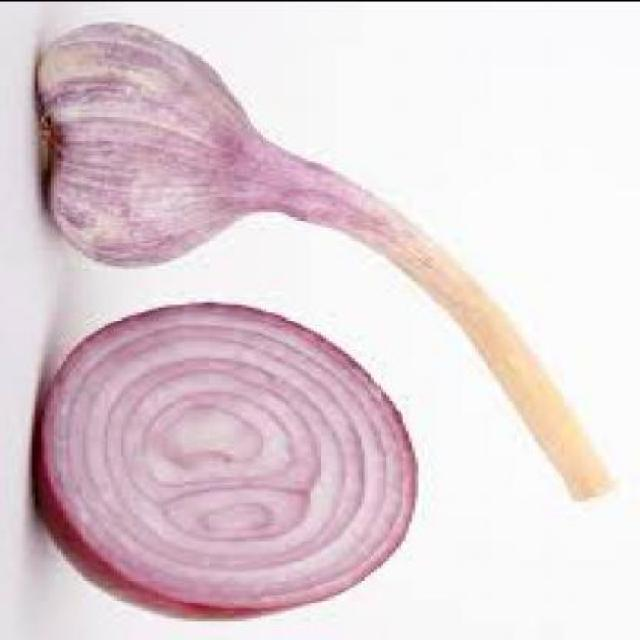BIODEGRADABLE: (38, 23, 618, 503), (35, 303, 418, 622)
